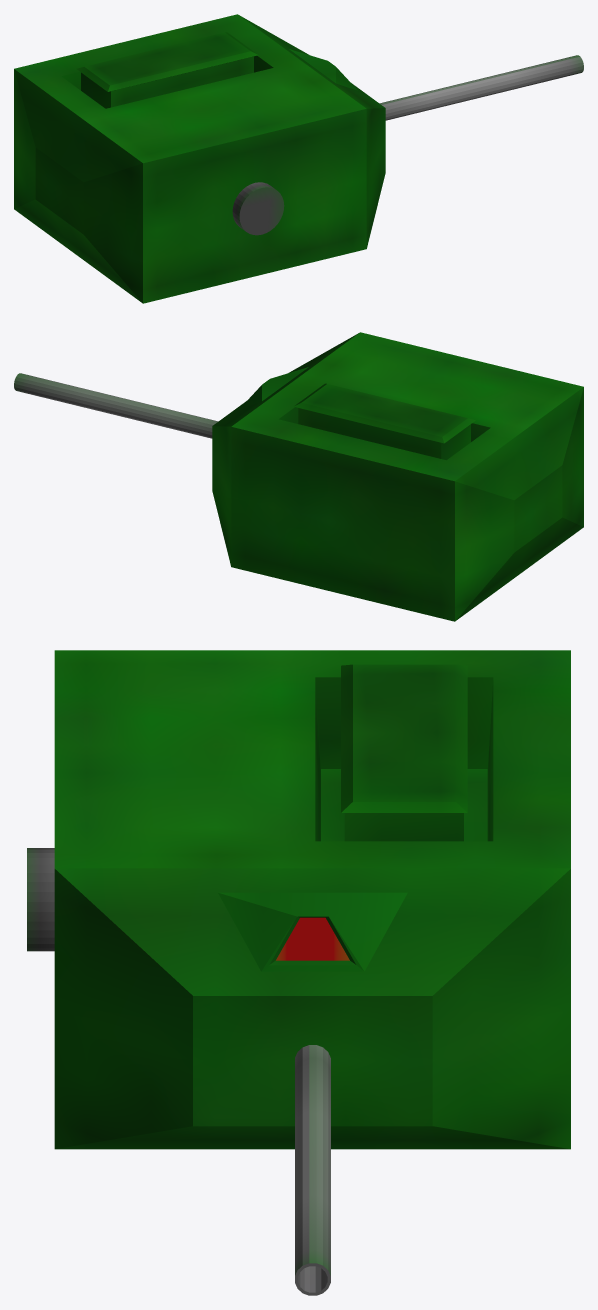
File: AMS-top.obj
3 renders of one model, top to bottom at view 1: azimuth 30°, elevation 25°; view 2: azimuth 150°, elevation 25°; view 3: azimuth 270°, elevation 25°, orthographic. The views are drawn at different scales.
Visible parts, largest first — view 1: Gun; view 2: Gun; view 3: Gun.
Part boxes in pixels (x1=…): Gun: x1=14, y1=14, x2=583, y2=303; Gun: x1=14, y1=332, x2=583, y2=621; Gun: x1=27, y1=650, x2=570, y2=1295.
Size of the model in its own units: 1.16 by 0.3279 by 0.5269.
